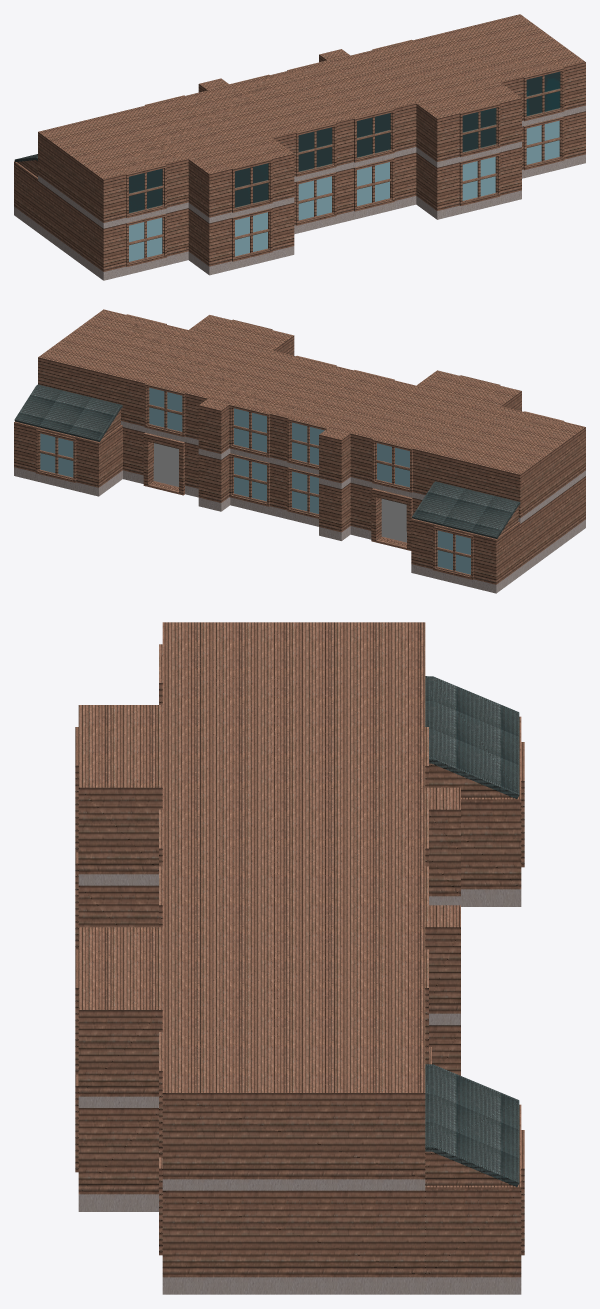
File: Pagoda Tower.FBX
3 renders of one model, top to bottom at view 1: azimuth 30°, elevation 25°; view 2: azimuth 150°, elevation 25°; view 3: azimuth 270°, elevation 25°, orthographic. The views are drawn at different scales.
Parts seen in each view (by area): view 1: Üst Kat, Alt Kat, Cam6, Cam8, Cam9, Cam4, Cam7, Cam5; view 2: Üst Kat, Alt Kat; view 3: Üst Kat, Alt Kat.
Part boxes in pixels (box(x1,y1,x2,y2)): Üst Kat: box(38, 14, 585, 228); Alt Kat: box(14, 111, 585, 280); Cam6: box(357, 113, 390, 157); Cam8: box(235, 163, 268, 207); Cam9: box(129, 169, 162, 213); Cam4: box(527, 72, 559, 116); Cam7: box(299, 128, 331, 171); Cam5: box(463, 108, 495, 152); Üst Kat: box(38, 309, 585, 523); Alt Kat: box(14, 384, 585, 593); Üst Kat: box(75, 622, 460, 1190); Alt Kat: box(75, 676, 524, 1294).
Bounding box in the file's own units: 24920 × 4983 × 10057.
